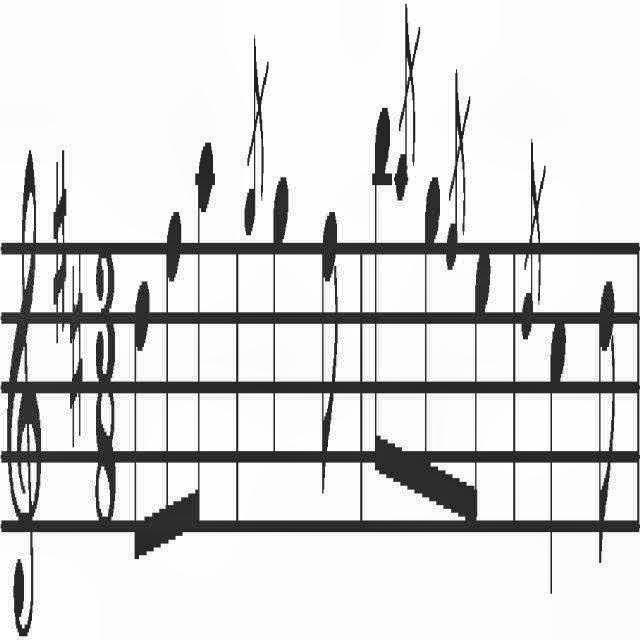Bass-clef: (0, 116, 50, 636)
Diez: (46, 125, 70, 338), (68, 245, 86, 450)
Eighth-note: (190, 118, 217, 548), (314, 184, 346, 491), (158, 202, 186, 550), (418, 141, 442, 531), (595, 262, 623, 578), (469, 226, 495, 562), (372, 73, 391, 510), (132, 264, 152, 572)
Quarter-note: (270, 140, 294, 500), (548, 286, 570, 626)
